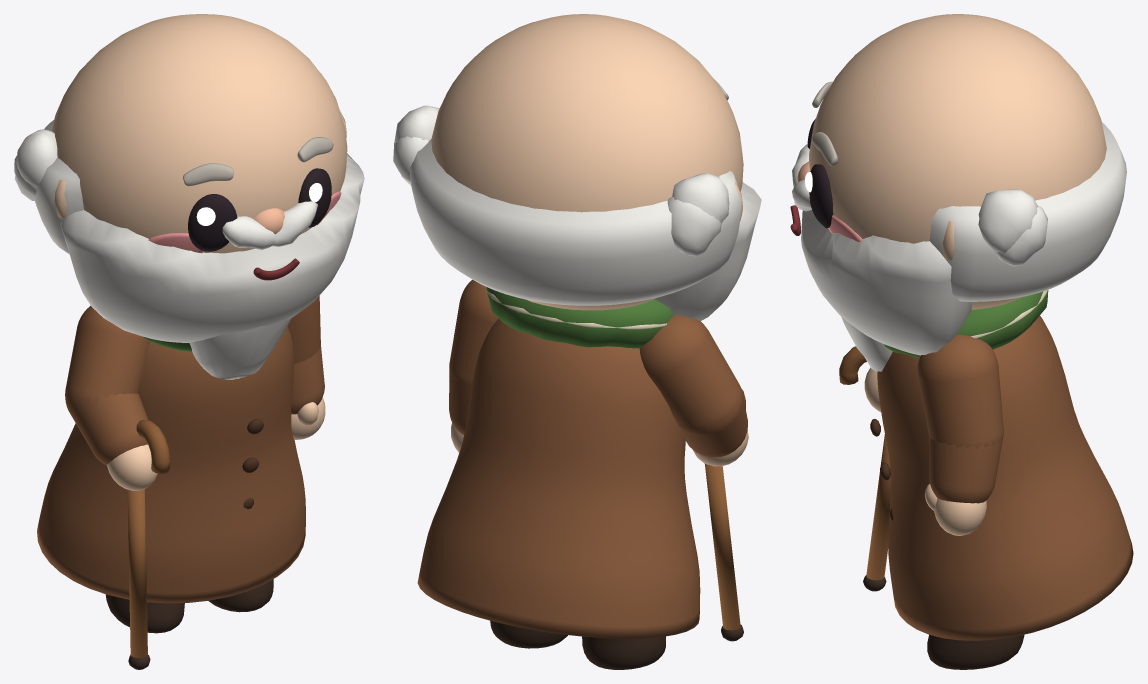
Rendered from npc_grandpa.glb.
3 renders of one model, left to right at view 1: azimuth 30°, elevation 25°; view 2: azimuth 150°, elevation 25°; view 3: azimuth 270°, elevation 25°, orthographic. The views are drawn at different scales.
Parts seen in each view (by area): view 1: head_S_body, spine_S_body, uarm_R, farm_R, head_S_eye_dot, cane_shaft, hand_R_S_body, farm_L, knee_R_S_body, uarm_L, head_S_brow_neutral, cane_crook (+3 smaller); view 2: head_S_body, spine_S_body, uarm_R, chest_S_body, cane_shaft, uarm_L, knee_R_S_body, farm_R, knee_L_S_body, farm_L; view 3: head_S_body, spine_S_body, uarm_L, farm_L, chest_S_body, knee_L_S_body, cane_shaft, hand_L_S_body, head_S_eye_dot, head_S_brow_neutral, cane_crook.
Boxes of the visible parts, x1,y1,x2,y2 form: head_S_body: (14, 14, 364, 379); spine_S_body: (37, 326, 305, 603); uarm_R: (65, 305, 149, 406); farm_R: (65, 388, 148, 465); head_S_eye_dot: (188, 168, 331, 251); cane_shaft: (127, 489, 147, 658); hand_R_S_body: (107, 444, 157, 490); farm_L: (291, 344, 324, 414); knee_R_S_body: (105, 594, 184, 633); uarm_L: (287, 296, 320, 363); head_S_brow_neutral: (183, 137, 333, 186); cane_crook: (136, 419, 170, 473); head_S_body: (393, 14, 761, 321); spine_S_body: (417, 318, 700, 638); uarm_R: (639, 315, 743, 435); chest_S_body: (486, 287, 674, 348); cane_shaft: (704, 463, 740, 630); uarm_L: (449, 279, 498, 387); knee_R_S_body: (582, 636, 665, 669); farm_R: (678, 383, 747, 457); knee_L_S_body: (490, 620, 567, 648); farm_L: (449, 363, 472, 434); head_S_body: (792, 14, 1126, 371); spine_S_body: (870, 315, 1133, 640); uarm_L: (917, 334, 1003, 448); farm_L: (929, 429, 1003, 503); chest_S_body: (884, 290, 1048, 358); knee_L_S_body: (927, 634, 1024, 669); cane_shaft: (866, 434, 890, 580); hand_L_S_body: (925, 484, 986, 535); head_S_eye_dot: (805, 118, 833, 228); head_S_brow_neutral: (812, 81, 837, 165); cane_crook: (839, 346, 866, 384).
Size of what is drawn, in the model's own units: 0.7007 by 1.26 by 0.6406.
